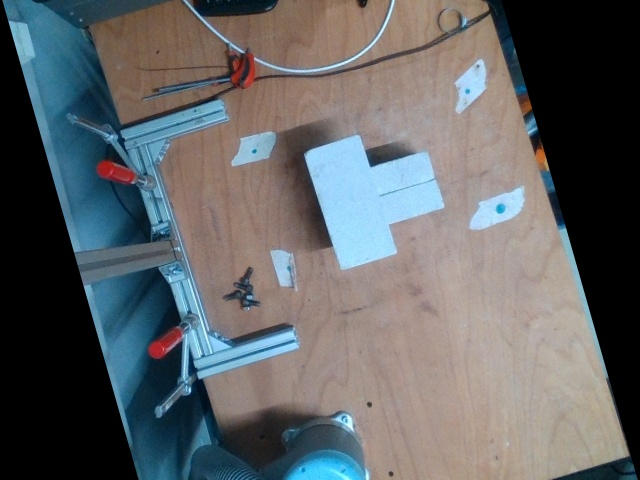brick: (303, 133, 395, 269)
